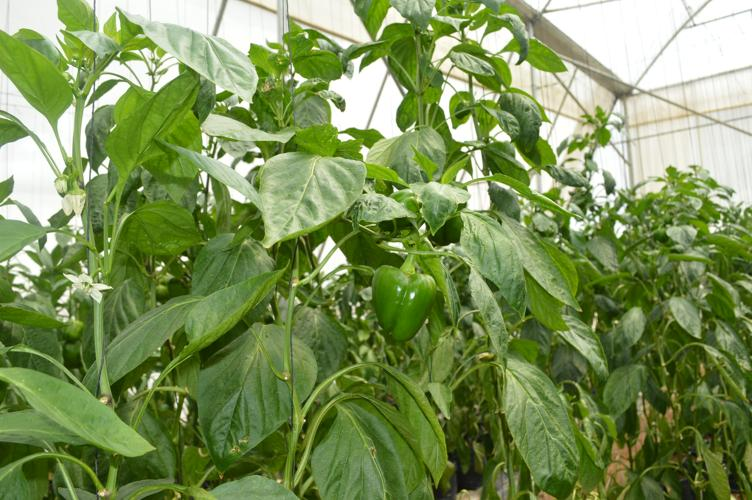BellPepper: (370, 270, 436, 343), (383, 188, 417, 232)
